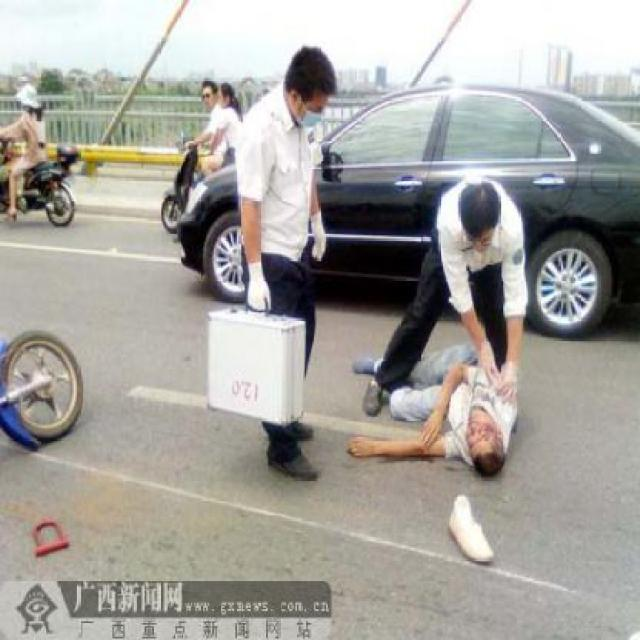fall: (342, 332, 522, 485)
